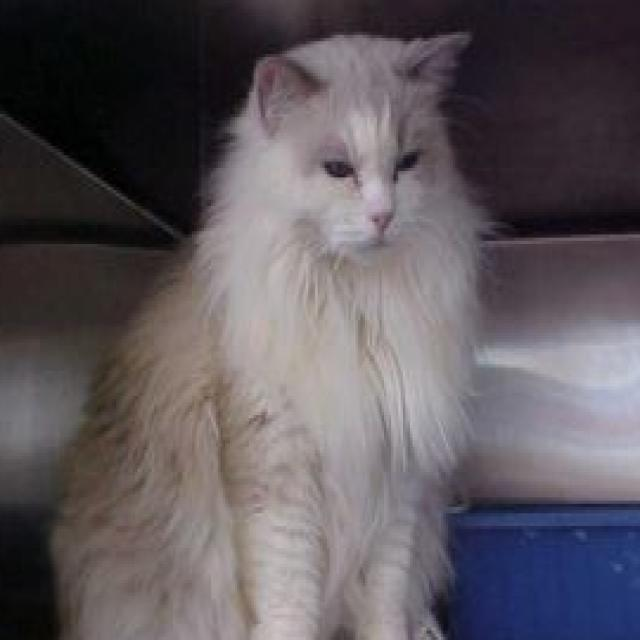Ragdoll: (40, 25, 502, 640)
